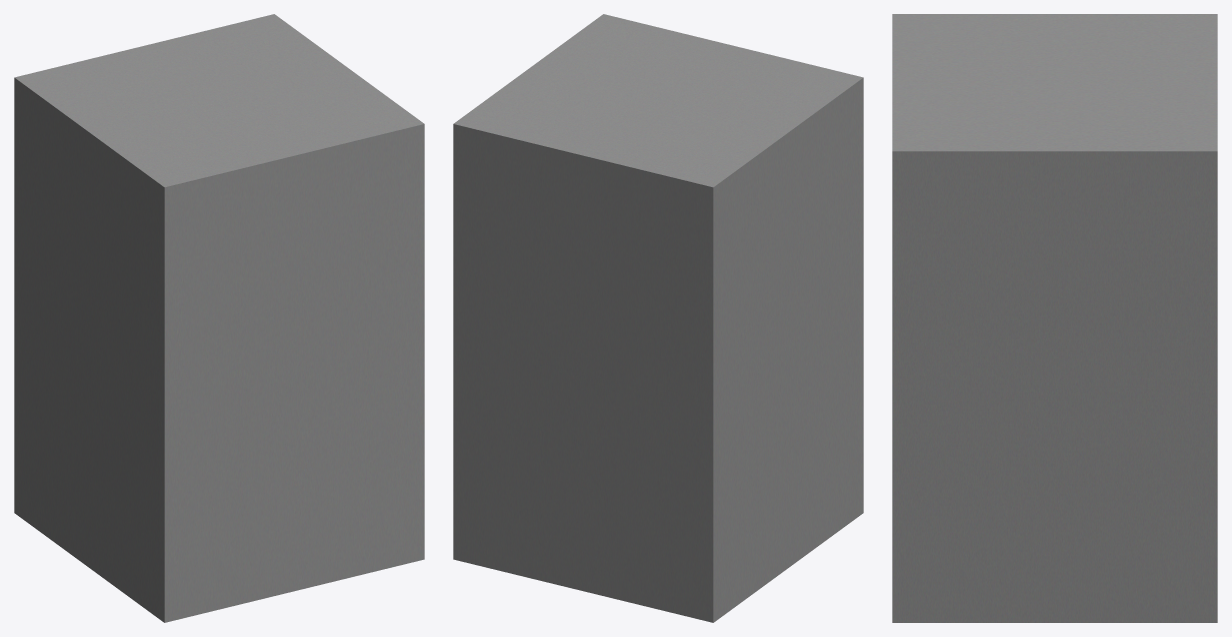
Rendered from hakoHigh.fbx.
3 views of the same model, side by side, from view 1: azimuth 30°, elevation 25°; view 2: azimuth 150°, elevation 25°; view 3: azimuth 270°, elevation 25° (orthographic). The views are drawn at different scales.
Visible parts, largest first — view 1: HakoHigh; view 2: HakoHigh; view 3: HakoHigh.
Part boxes in pixels (<box>): HakoHigh: <box>14,14,424,622</box>; HakoHigh: <box>453,14,863,622</box>; HakoHigh: <box>892,14,1217,622</box>.
Bounding box in the file's own units: 250 × 250 × 400.
Materials: 1 (1 with a texture image).
